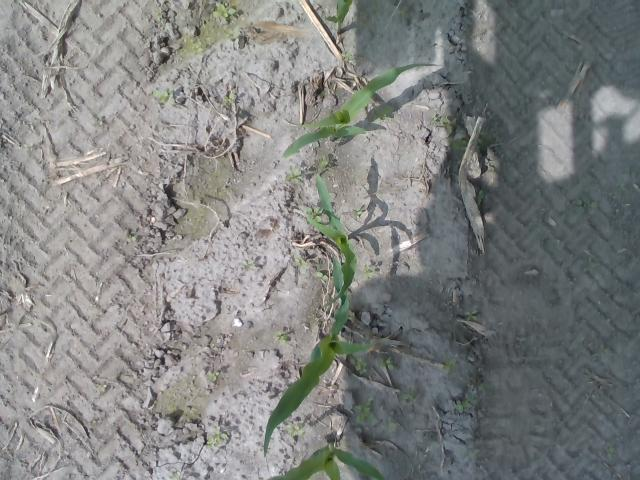Maize: (262, 291, 378, 456), (280, 61, 442, 158), (303, 176, 358, 304), (260, 435, 386, 480), (323, 0, 352, 40)
Weeds: (353, 398, 378, 424), (432, 114, 457, 137), (204, 426, 226, 447), (189, 36, 214, 54), (456, 395, 477, 413), (212, 2, 236, 17), (284, 422, 306, 438), (304, 206, 322, 224), (449, 138, 466, 156), (355, 358, 369, 374), (223, 25, 239, 39), (314, 270, 328, 284), (272, 330, 286, 344), (464, 307, 478, 321), (378, 358, 394, 369), (288, 168, 302, 180), (152, 90, 168, 100), (402, 390, 418, 400), (384, 417, 396, 429), (444, 358, 456, 370), (207, 370, 219, 381), (294, 256, 306, 266), (222, 96, 235, 104), (363, 268, 373, 278), (318, 158, 329, 167), (126, 235, 137, 243)
